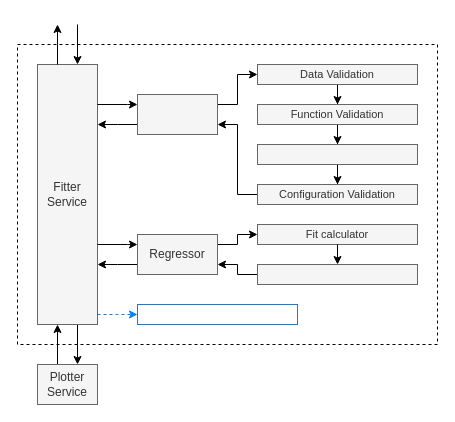
This 455x422 diagram has some shape labels left out. The shapes that lost their labels are listed below. From the top down, each one's centre as x and y in pixels, then its label:
At (177,114): "Validator".
At (337,154): "Plot Validation".
At (337,274): "Fit analyzer".
At (217,314): "Central Logging Service".
